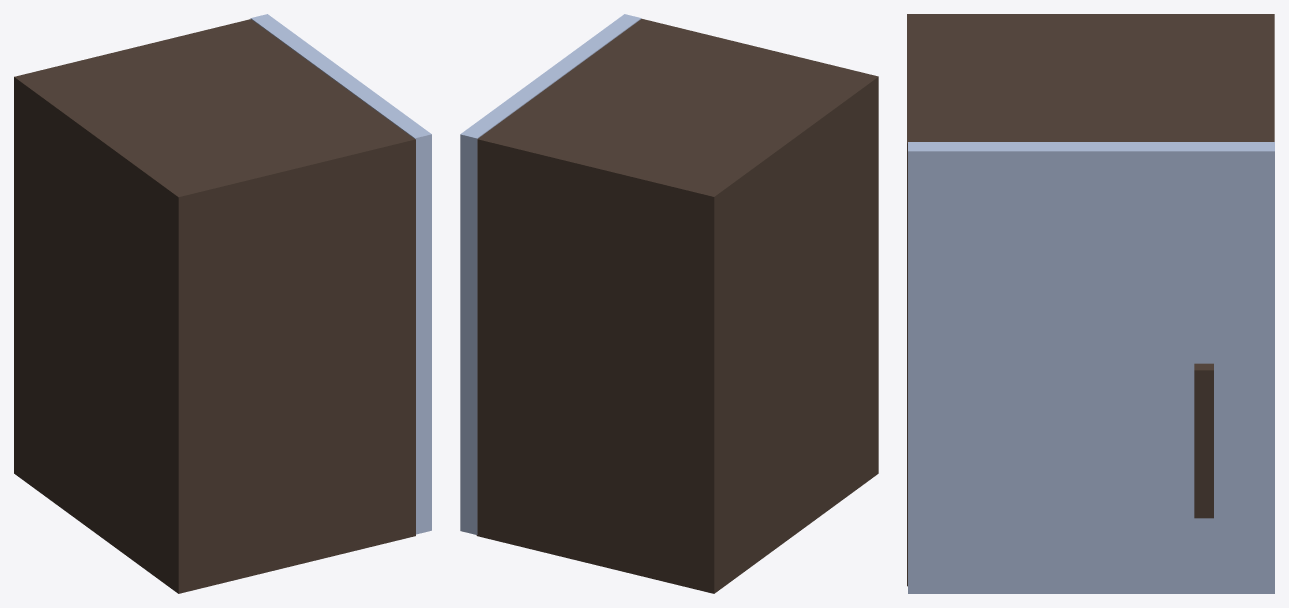
File: HangingCabinetSingle.fbx
The picture shows the model from 3 angles, left to right: view 1: azimuth 30°, elevation 25°; view 2: azimuth 150°, elevation 25°; view 3: azimuth 270°, elevation 25°; orthographic projection. The views are drawn at different scales.
Parts seen in each view (by area): view 1: Hanging Kitchen CabinetBase01, HangingKitchenCabinetDoor01; view 2: Hanging Kitchen CabinetBase01, HangingKitchenCabinetDoor01; view 3: HangingKitchenCabinetDoor01, Hanging Kitchen CabinetBase01.
Boxes of the visible parts, x1=… form: Hanging Kitchen CabinetBase01: x1=14, y1=19, x2=415, y2=593; HangingKitchenCabinetDoor01: x1=250, y1=14, x2=431, y2=534; Hanging Kitchen CabinetBase01: x1=476, y1=18, x2=878, y2=593; HangingKitchenCabinetDoor01: x1=460, y1=14, x2=641, y2=534; HangingKitchenCabinetDoor01: x1=908, y1=142, x2=1274, y2=593; Hanging Kitchen CabinetBase01: x1=907, y1=14, x2=1274, y2=586.
Size of the model in its own units: 140 by 200 by 150.
